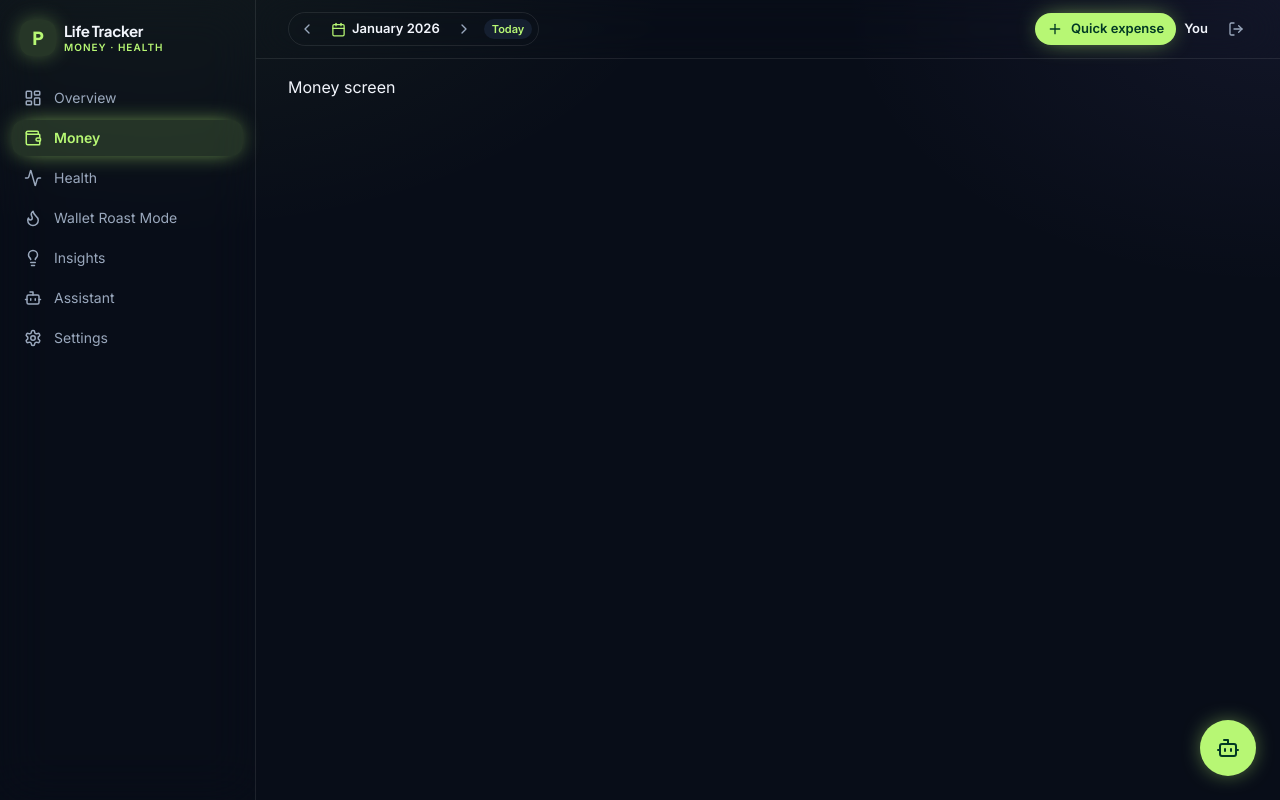
AppShell navigation › keeps existing navigation working
The width and height of the screenshot is (1280, 800).
Click the link "Overview": x=70, y=98 [24,89,117,107]
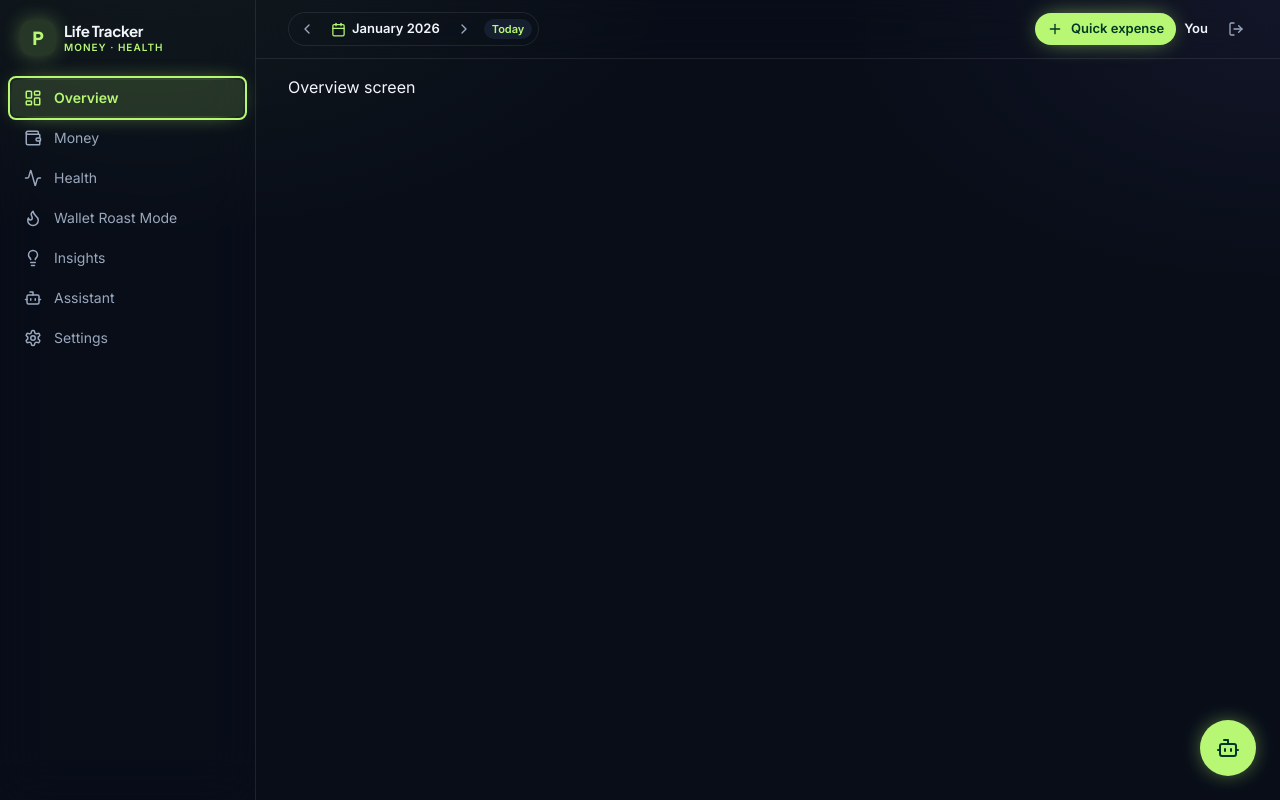
Check: the text "Overview screen" is shown, box [288,77,416,97]
